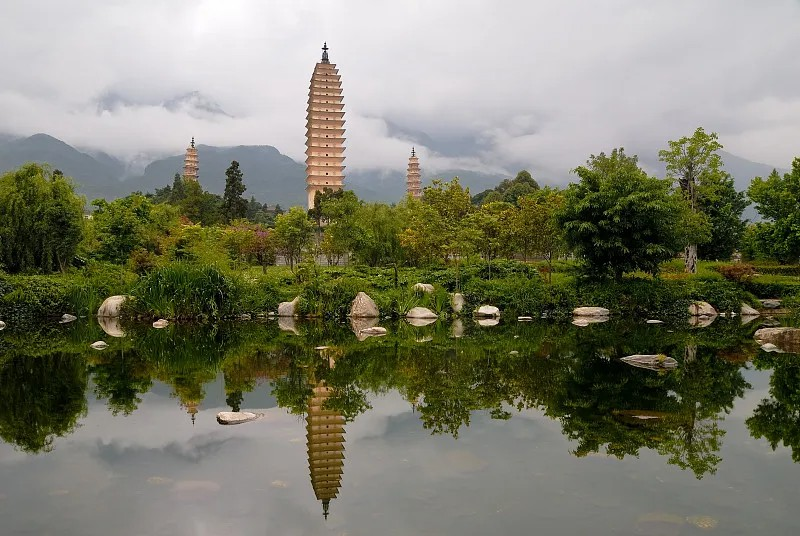ThreePagoda: (306, 42, 346, 209)
